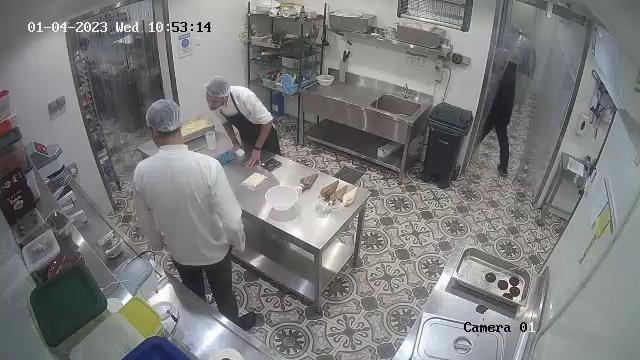gloves: (147, 94, 186, 134), (206, 75, 233, 97)
no_apron: (247, 137, 264, 173), (229, 137, 245, 157)
no_hairnet: (204, 94, 230, 113)
